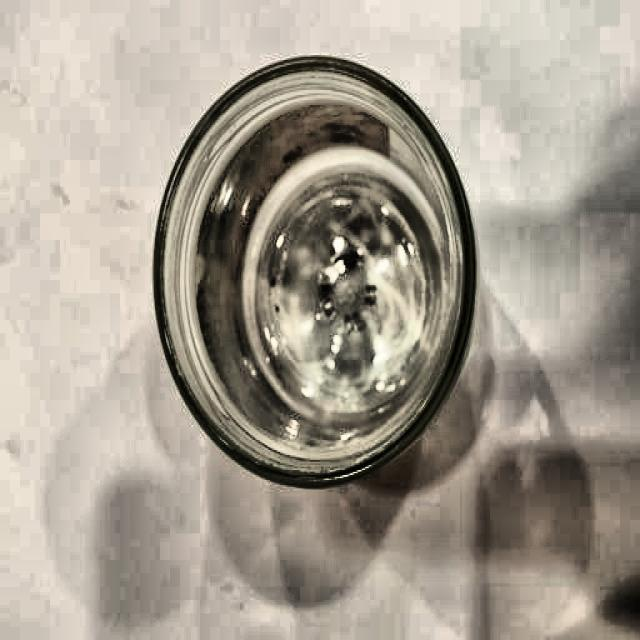glass: (154, 54, 480, 493)
